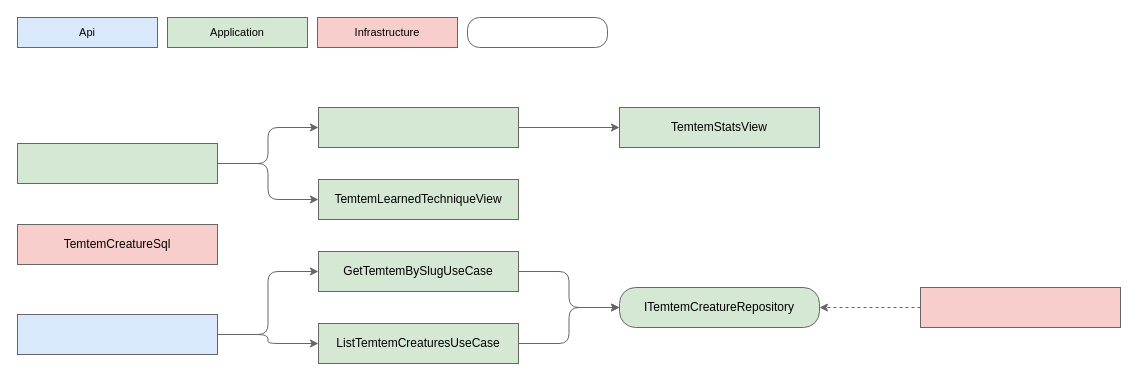
The diagram is 1138 pixels wide and 381 high, and some of its shapes have lost their labels. The centre of each missing label's shape, as x and y in pixels:
Port (interface): the point at 537,32
PostgresTemtemCreatureRepository: the point at 1020,307
TemtemCreaturesController: the point at 117,334
TemtemDetailView: the point at 117,163
TemtemSummaryView: the point at 418,127
